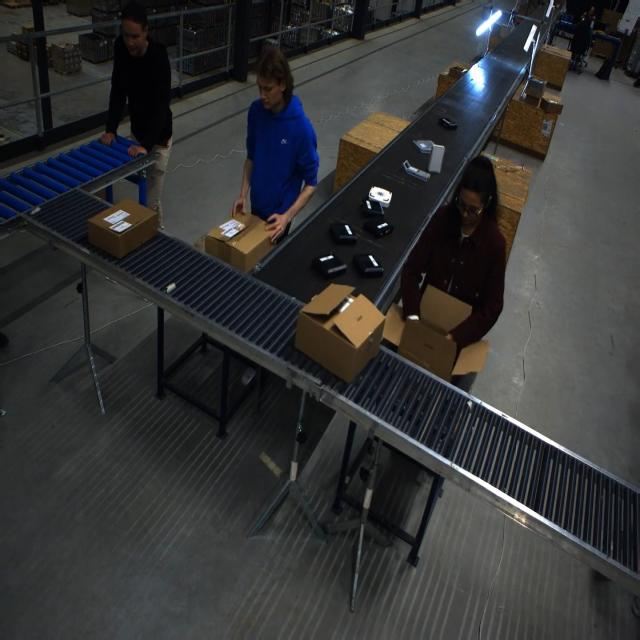box: (385, 284, 489, 383), (295, 289, 384, 383), (202, 209, 274, 273), (86, 200, 159, 260), (539, 91, 563, 115), (523, 75, 546, 100), (448, 64, 468, 79)
product: (311, 253, 345, 279), (352, 253, 384, 278), (329, 221, 357, 244), (402, 159, 430, 182), (362, 218, 393, 238), (427, 143, 445, 174), (368, 186, 392, 208), (360, 197, 385, 218), (411, 140, 434, 154), (438, 117, 458, 130)
